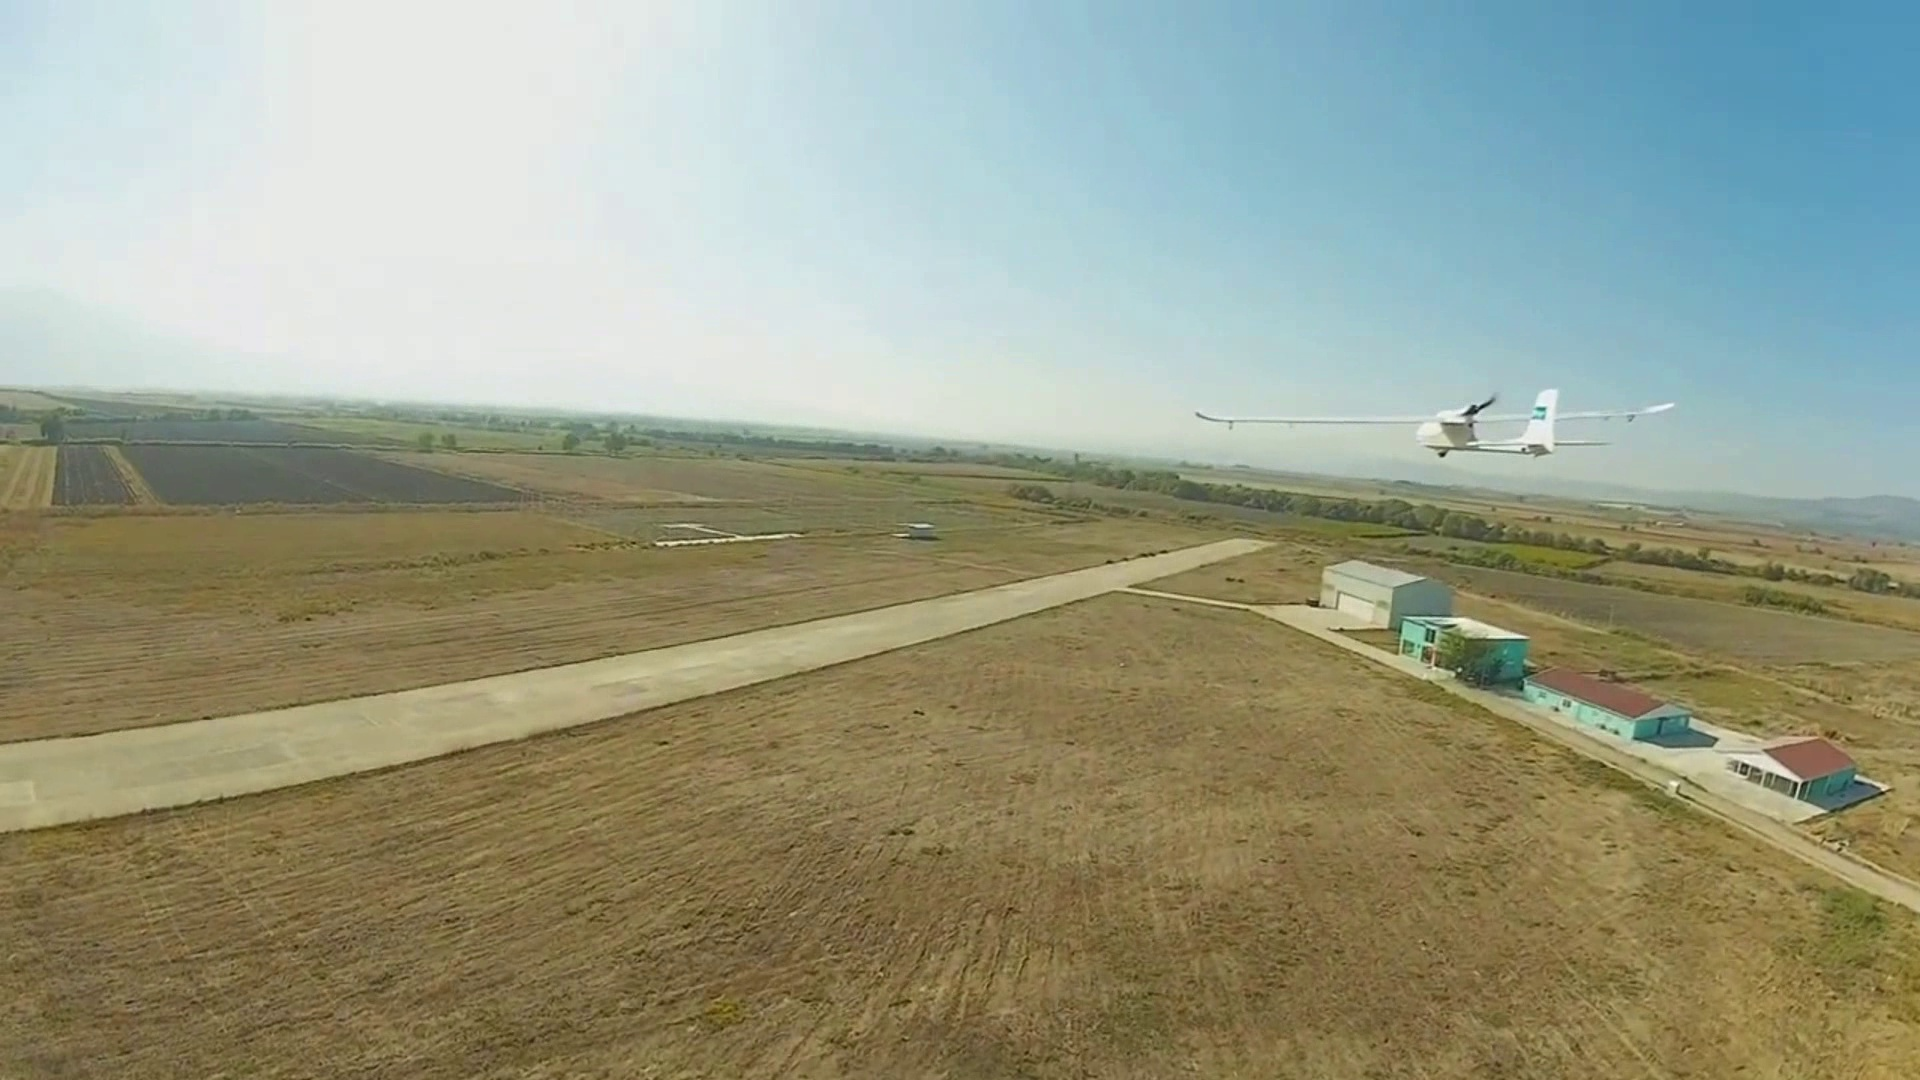airplane: (1185, 381, 1675, 459)
